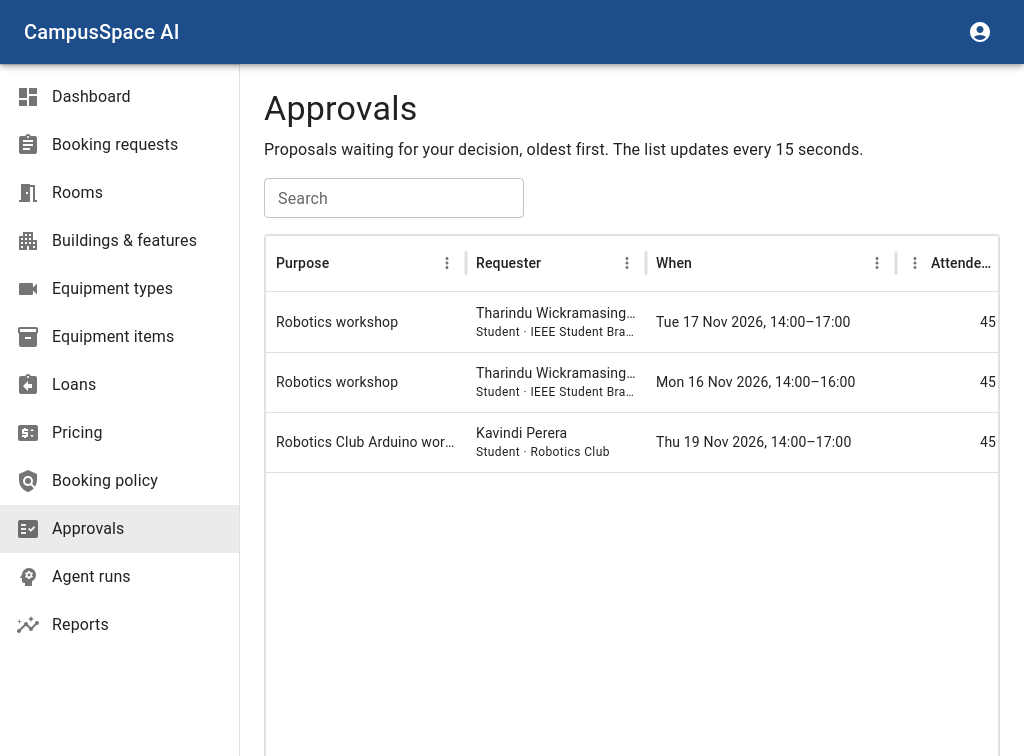
Test: ApprovalQueuePage › opens the approval detail on a row click
Click the text "Robotics Club Arduino workshop": (380, 442) [276,434,484,450]
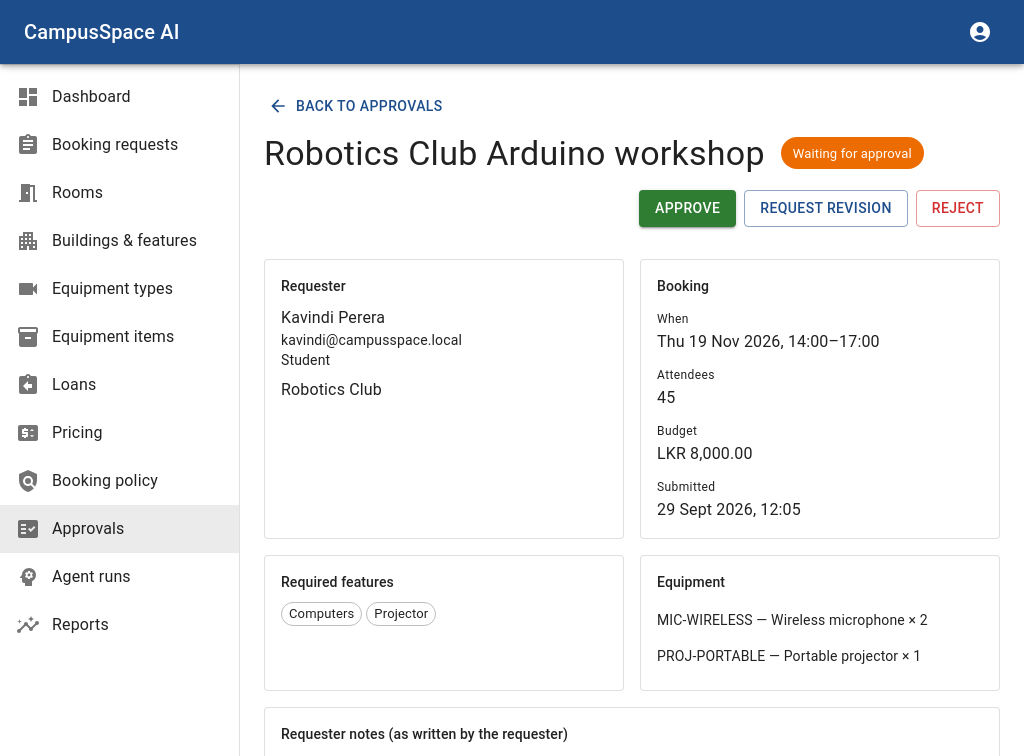
Now the link "Back to approvals" is shown, box [268,96,443,116]
Now the heading "Robotics Club Arduino workshop" is shown, box [264,132,765,174]
